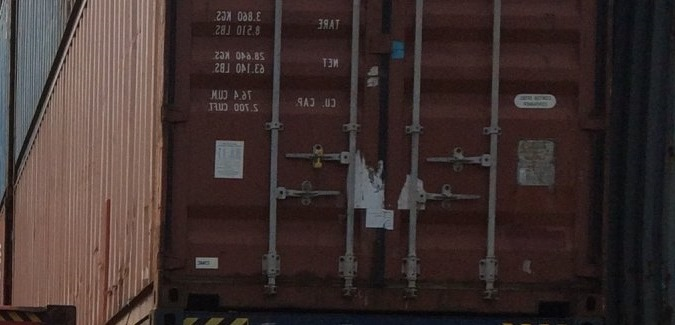container_door: (154, 3, 616, 306)
